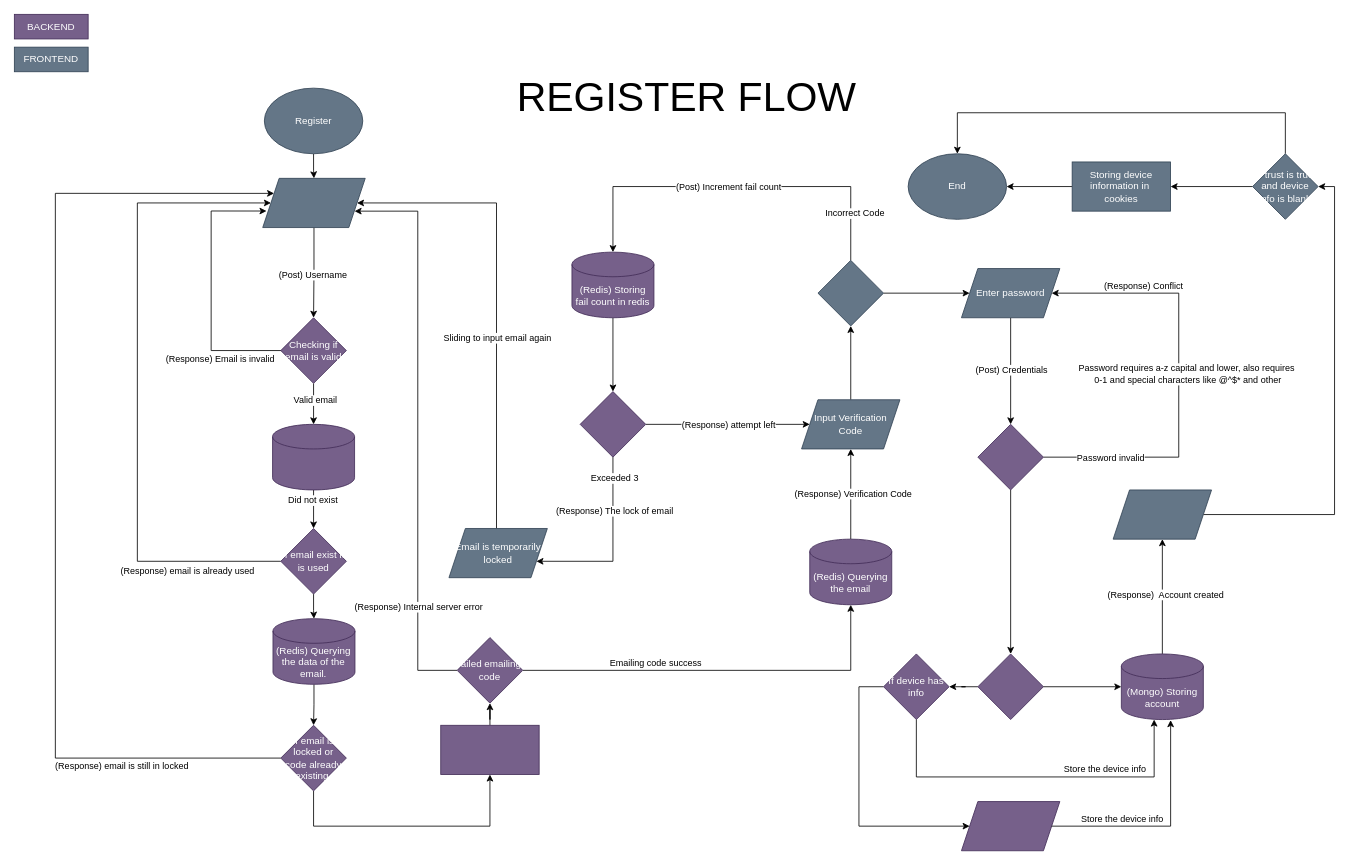
The diagram is 1355 pixels wide and 865 high, and some of its shapes have lost their labels. The centre of each missing label's shape, as x and y in pixels:
"(Mongo) Querying the email" belongs at point 313,457.
"Account created" belongs at point 1162,514.
"Generate device info" belongs at point 1010,826.
"If code incorrect" belongs at point 850,293.
"If fail count exceeded 3" belongs at point 612,424.
"If user trusted this device" belongs at point 1010,686.
"Input email" belongs at point 313,203.
"Password validation" belongs at point 1010,457.
"Sending code in email" belongs at point 489,749.
